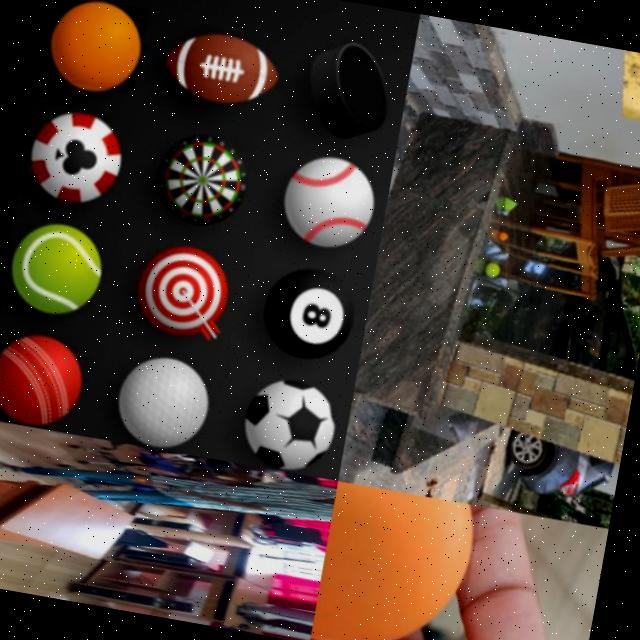ping-pong-ball: (311, 480, 481, 640), (45, 0, 147, 93), (498, 230, 508, 238), (136, 476, 148, 481)
